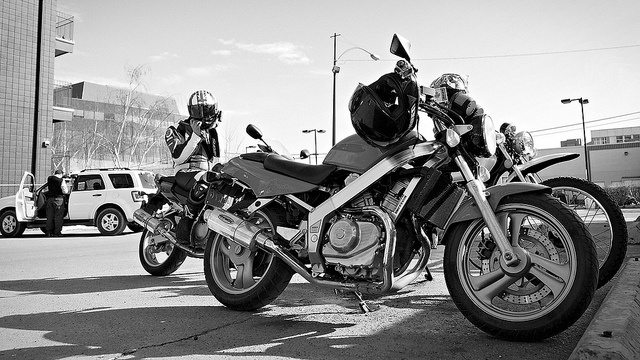non-vehicle: (202, 33, 597, 340), (479, 117, 630, 293), (132, 172, 213, 277)
